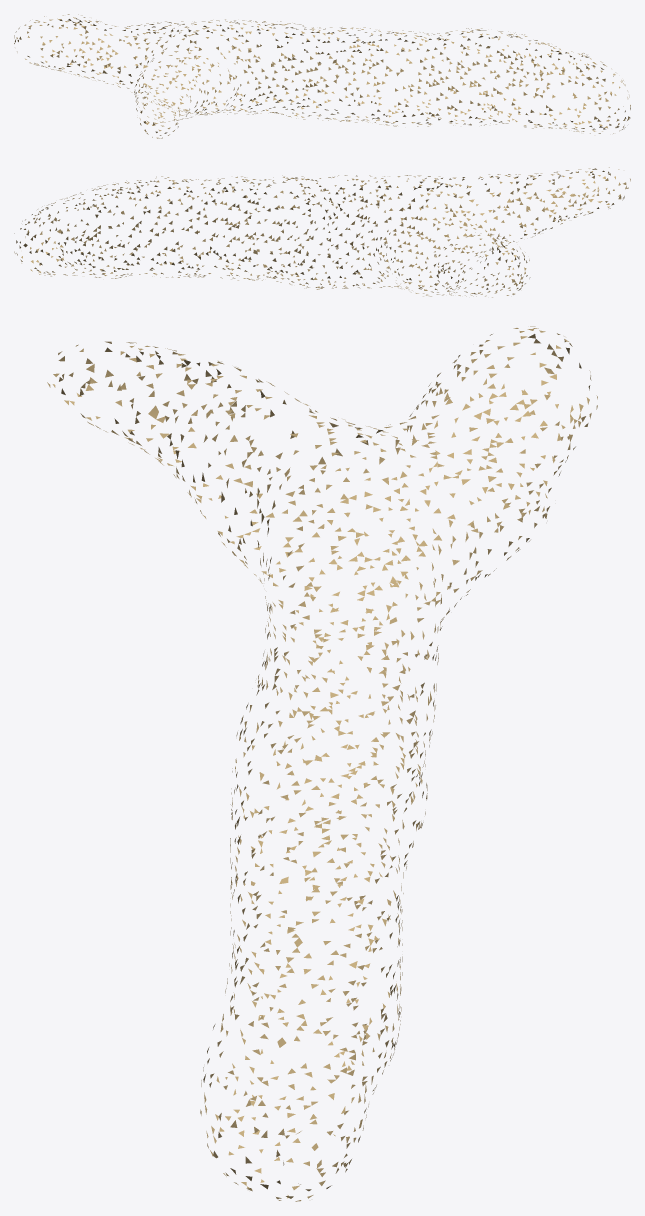
File: morph_007.glb
3 renders of one model, top to bottom at view 1: azimuth 30°, elevation 25°; view 2: azimuth 150°, elevation 25°; view 3: azimuth 270°, elevation 25°, orthographic. The views are drawn at different scales.
Size of the model in its own units: 108 by 35.95 by 47.28.
